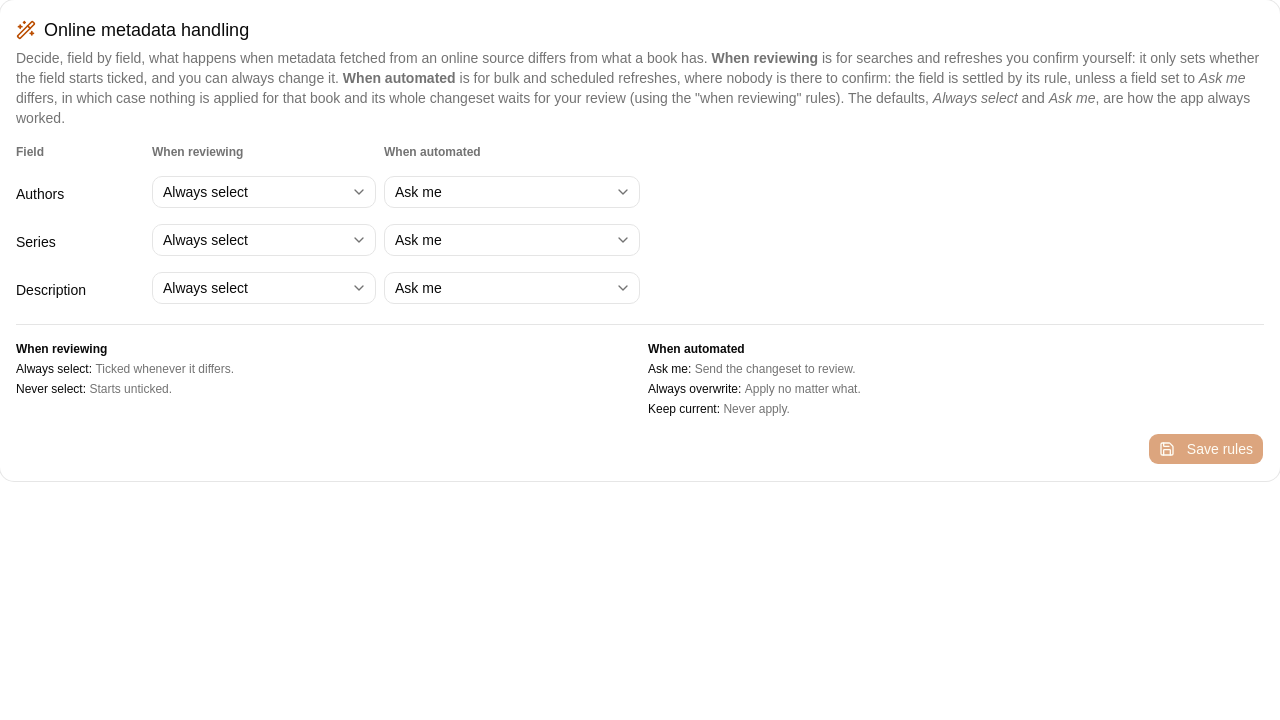
Test: MetadataApplyRulesCard › warns when Always overwrite is chosen on Series
Click the dropdown named "Series: when automated".
click(512, 240)  # box [384,224,640,256]
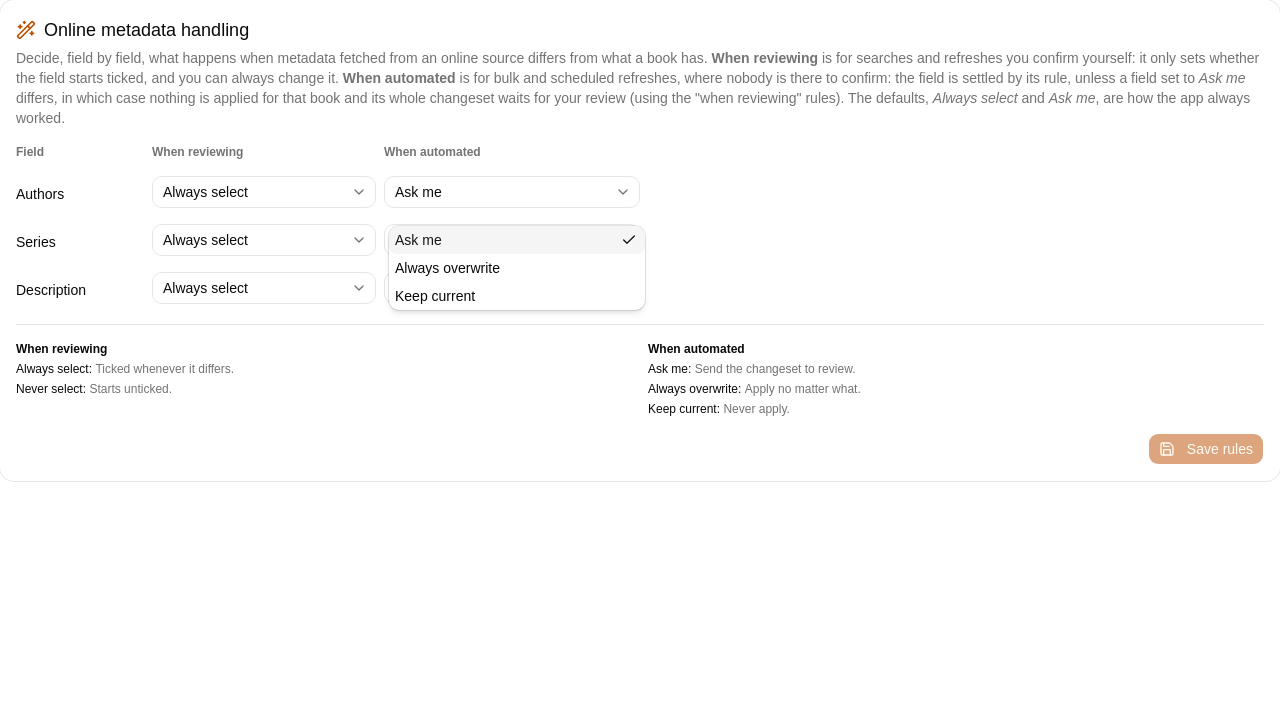
Click the option "Always overwrite".
click(448, 268)  # box [395,260,500,276]
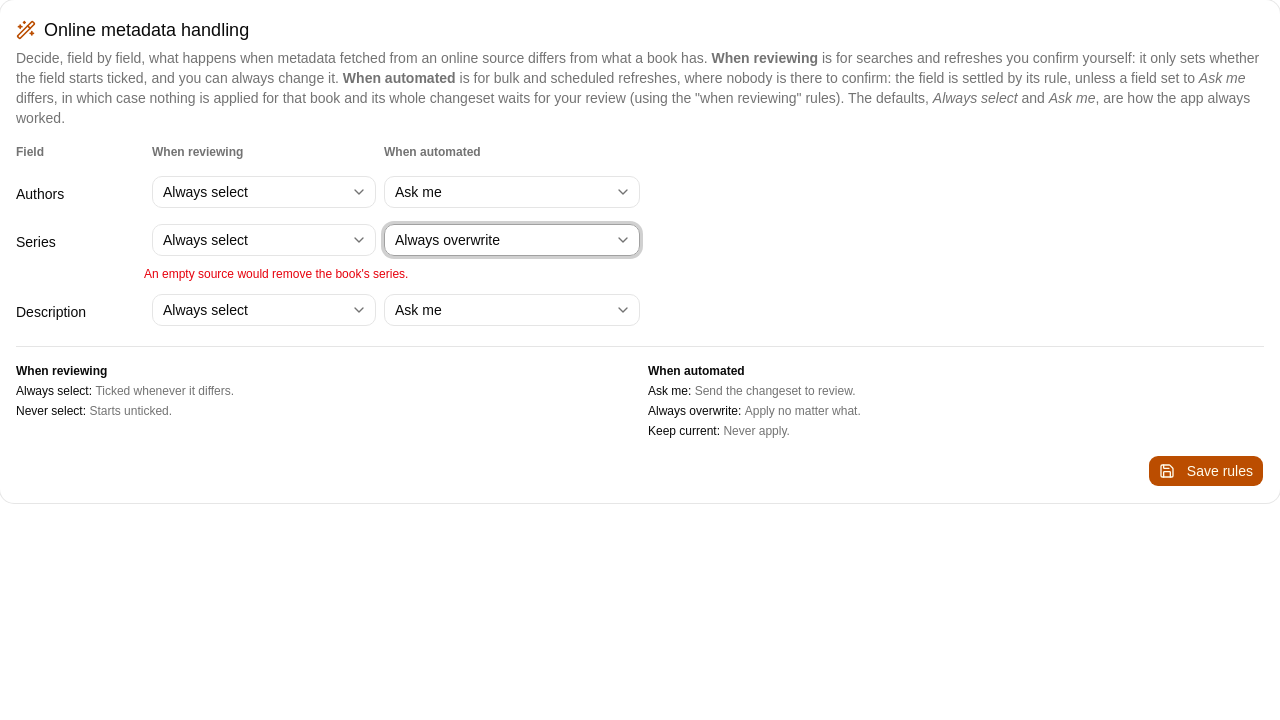
expect the message reads "An empty source would remove the book's series.": met, box [144,267,408,281]
